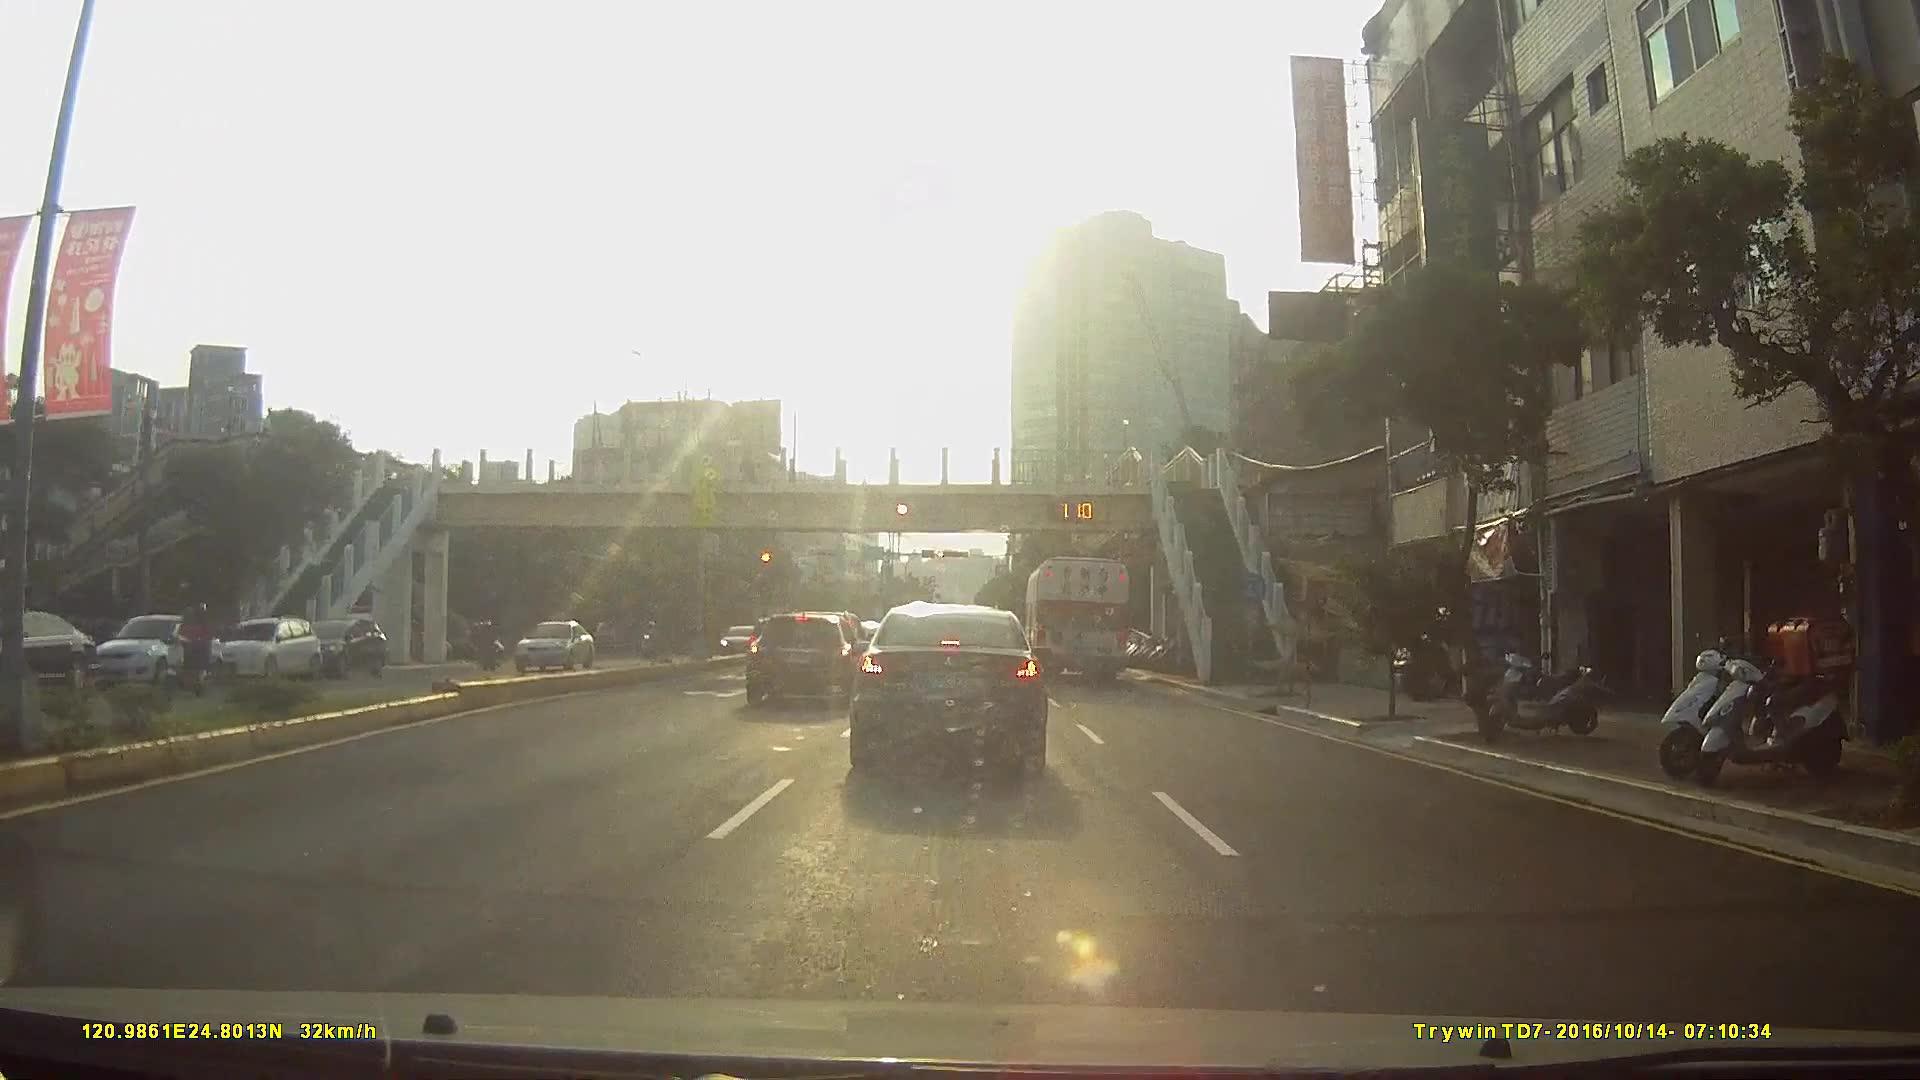rider: (141, 601, 218, 703)
vehicle: (844, 599, 1050, 775), (1023, 551, 1133, 683), (739, 606, 864, 705), (84, 611, 217, 687), (0, 608, 94, 690), (206, 615, 320, 681), (297, 616, 386, 677), (503, 618, 588, 673), (716, 624, 756, 656)
